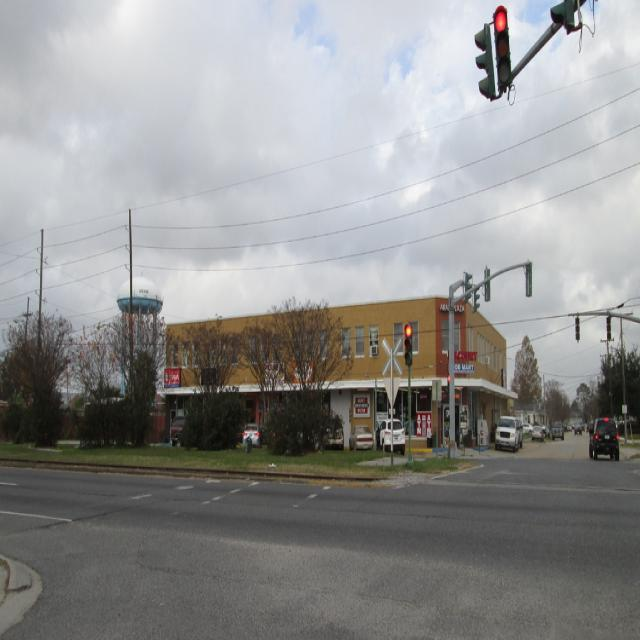off traffic light: (473, 21, 496, 102), (464, 270, 473, 302), (526, 258, 533, 297), (484, 265, 491, 302), (473, 281, 480, 314), (576, 316, 581, 341), (607, 316, 612, 340)
traffic light: (491, 3, 513, 92), (404, 323, 414, 367)
